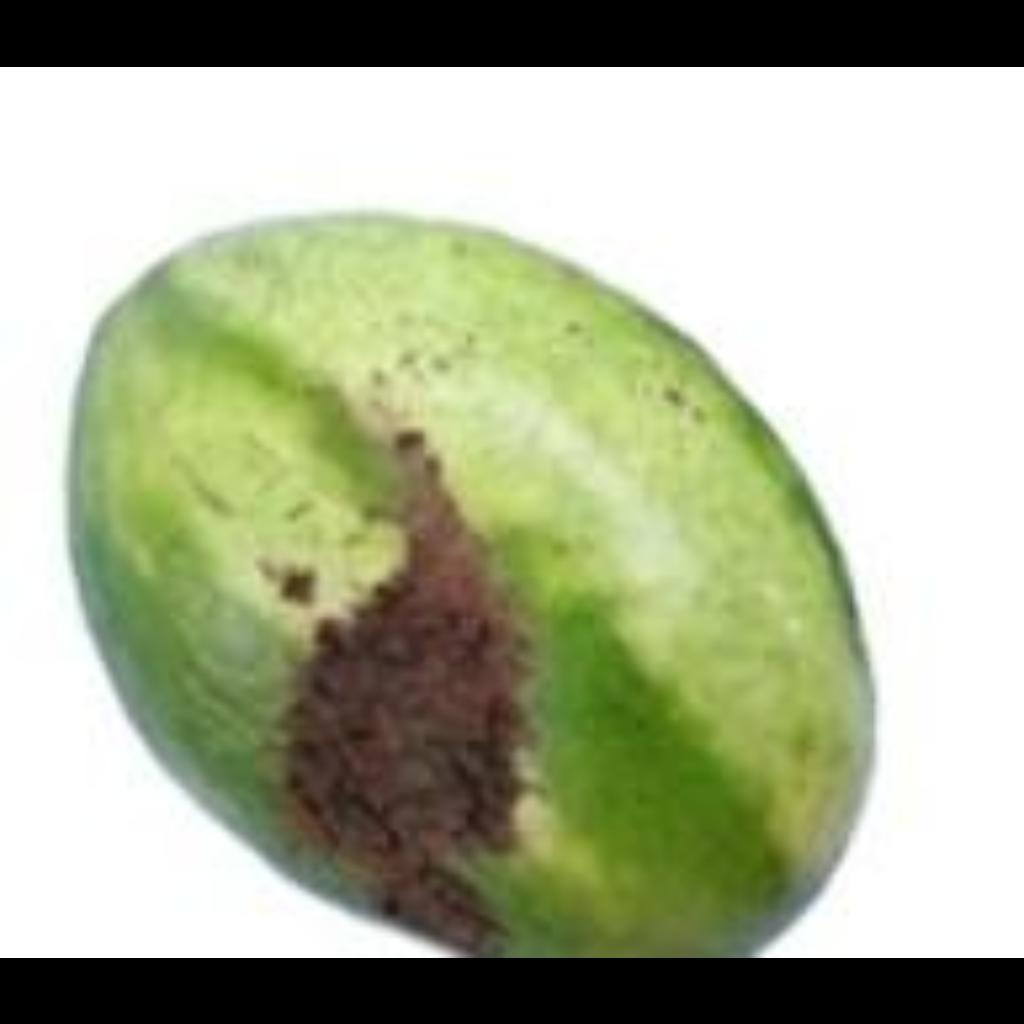sunblotch: (34, 212, 846, 955)
